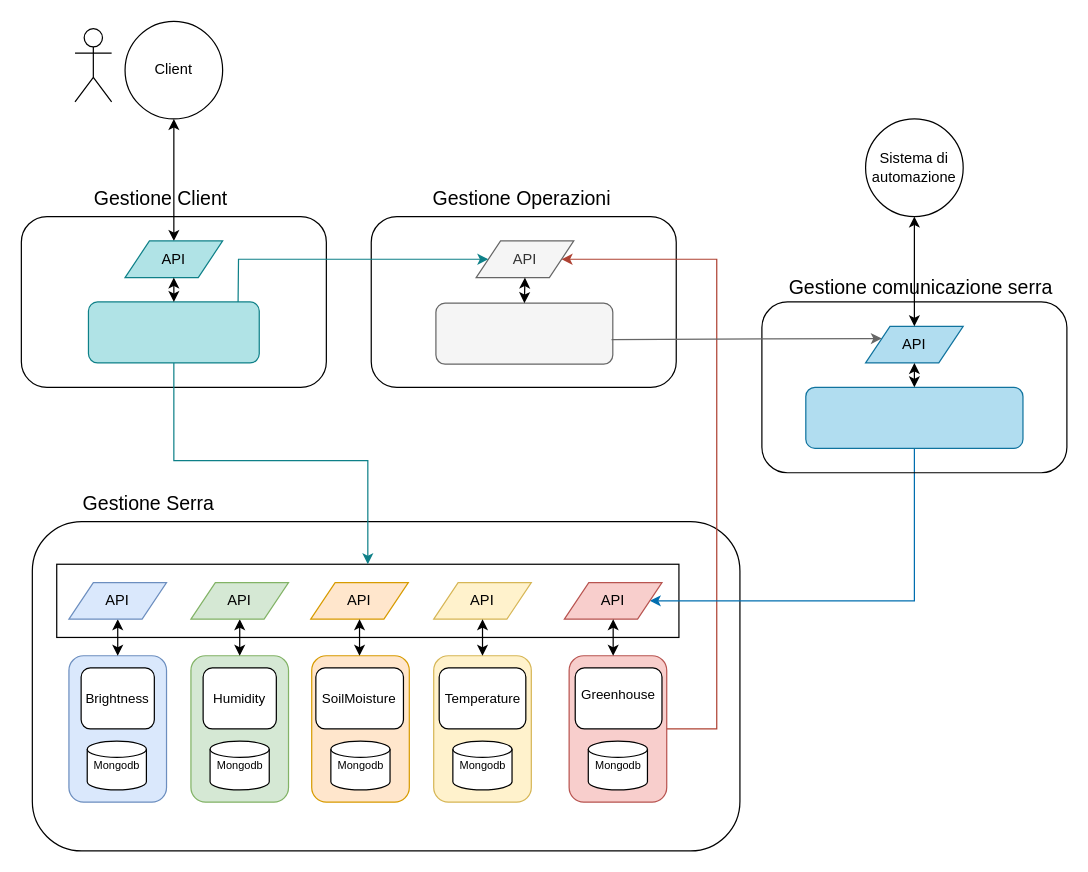
This 1088x872 diagram has some shape labels left out. The shapes that lost their labels are listed below. From the top down, each one's centre as x and y in pixels, then its label:
At pixel 93 64: "Operatore".
At pixel 173 332: "ClientCommunication".
At pixel 524 333: "Operation".
At pixel 914 417: "GreenhouseCommunication".
